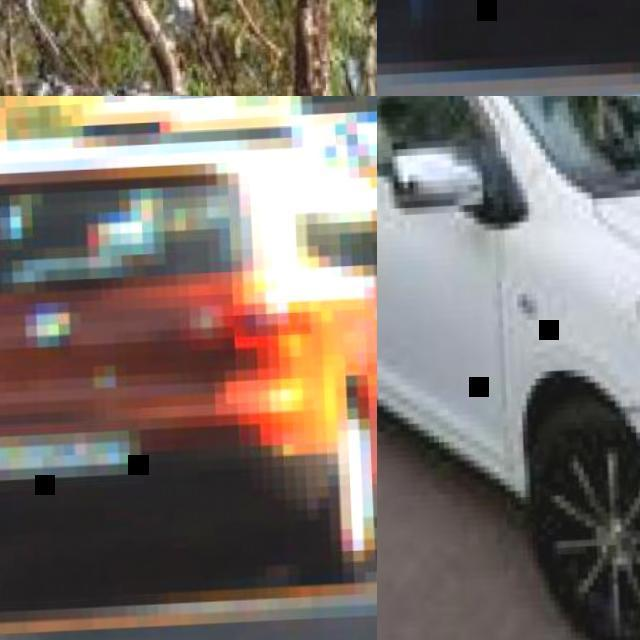car: (380, 125, 639, 632)
